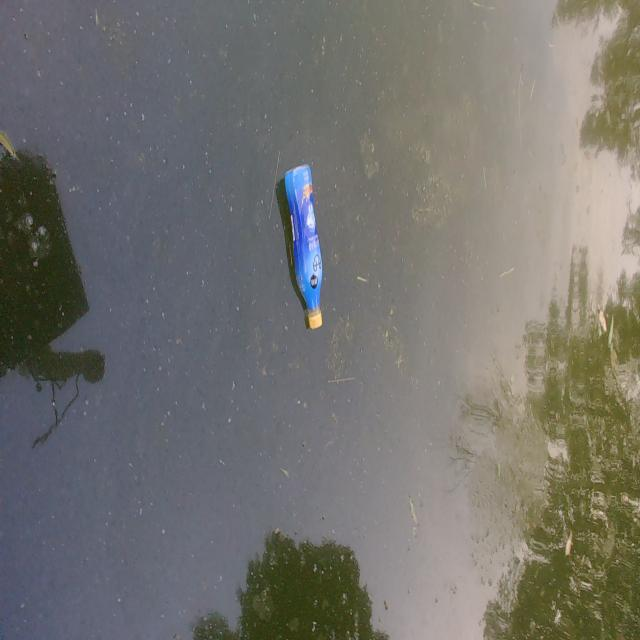Bottle: (280, 158, 325, 333)
